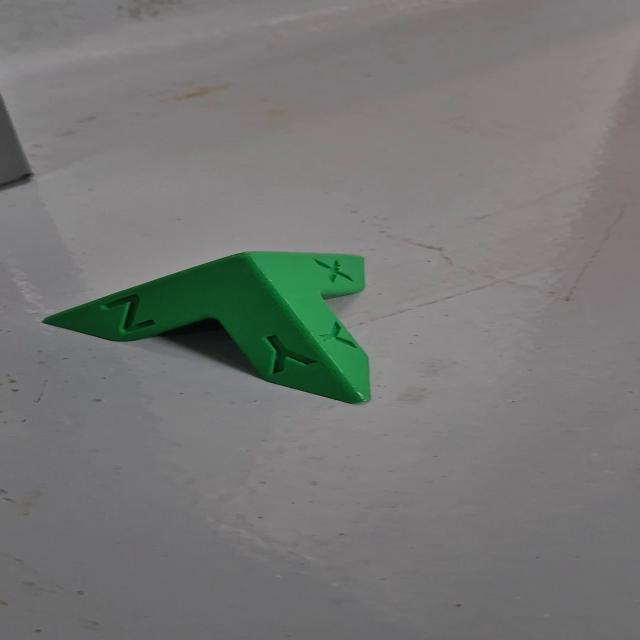objects: (30, 248, 395, 408)
